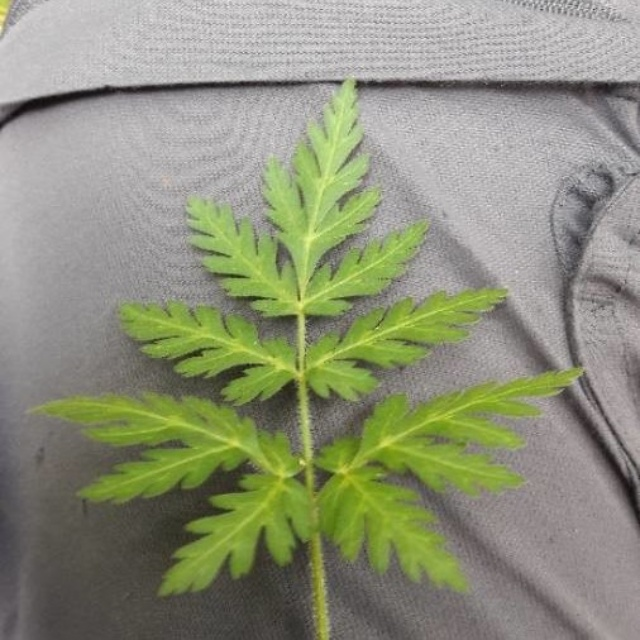obstacle: (63, 73, 564, 601)
